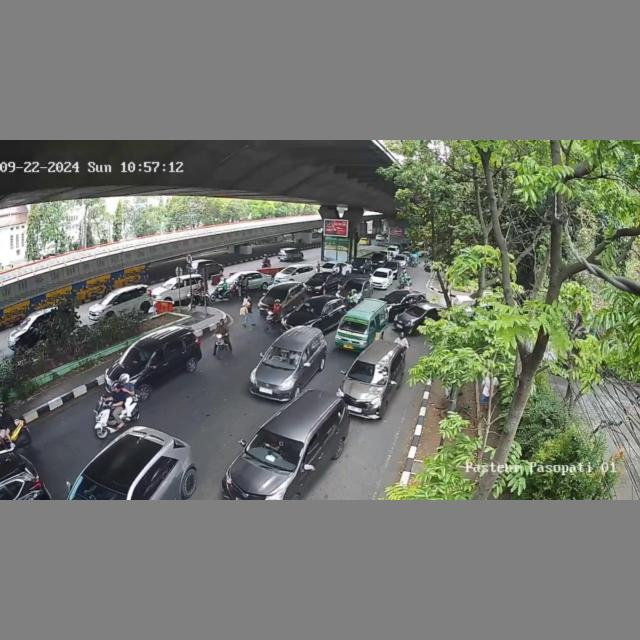windshield: (245, 429, 302, 469), (261, 344, 302, 370), (347, 361, 392, 383), (122, 346, 151, 368), (339, 318, 372, 332), (297, 304, 323, 315), (266, 289, 289, 298)
